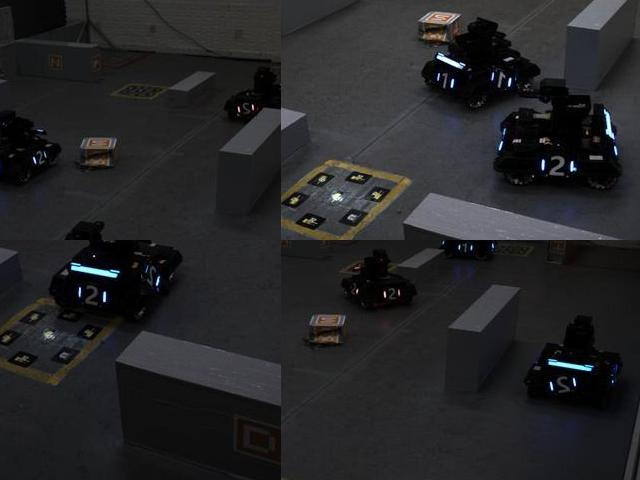armor: (71, 278, 110, 315), (535, 152, 576, 180), (142, 261, 171, 297), (546, 372, 583, 399), (430, 65, 458, 95), (491, 68, 517, 91), (379, 285, 404, 305), (27, 149, 49, 169), (237, 101, 258, 118), (455, 240, 476, 257)
